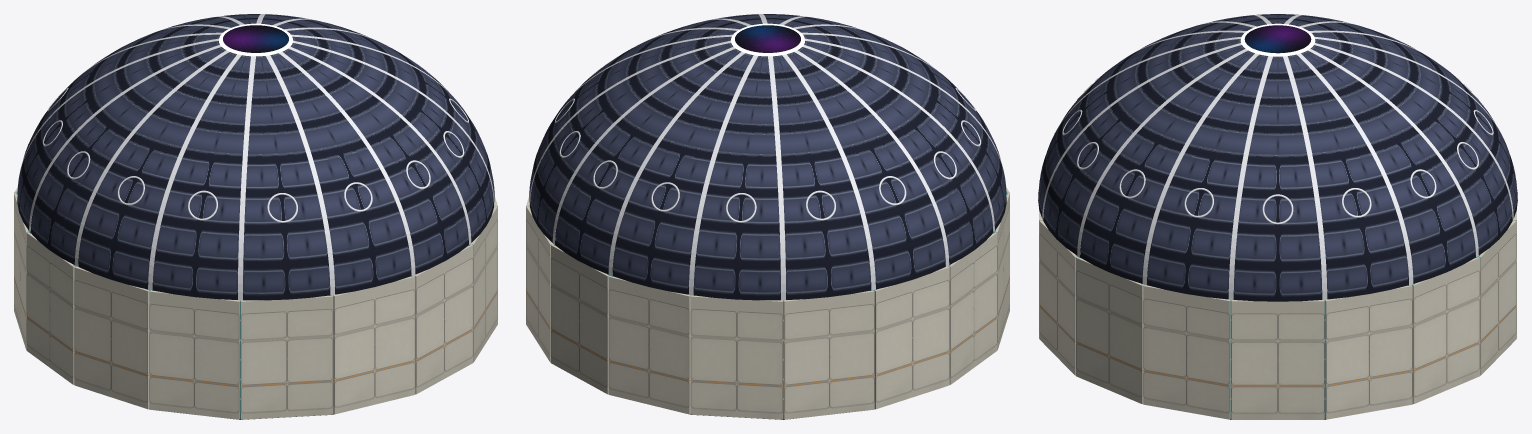
File: room.glb
The picture shows the model from 3 angles, left to right: view 1: azimuth 30°, elevation 25°; view 2: azimuth 150°, elevation 25°; view 3: azimuth 270°, elevation 25°; orthographic projection.
Visible parts, largest first — view 1: Dome, Wall_11, Wall_10, Wall_12, Wall_09, Wall_13, Wall_08, Wall_14, Wall_07, Oculus_Space, Dome_Rib_10, Dome_Rib_11 (+8 smaller); view 2: Dome, Wall_05, Wall_06, Wall_04, Wall_07, Wall_03, Wall_08, Wall_02, Wall_09, Oculus_Space, Dome_Rib_05, Dome_Rib_04 (+8 smaller); view 3: Dome, Wall_00, Wall_15, Wall_01, Wall_02, Wall_14, Wall_03, Wall_13, Oculus_Space, Dome_Rib_00, Dome_Rib_15, Dome_Rib_01 (+8 smaller).
Part boxes in pixels (bbox=[...]): Dome: bbox=[17, 14, 494, 300]; Wall_11: bbox=[240, 295, 333, 419]; Wall_10: bbox=[149, 290, 239, 419]; Wall_12: bbox=[333, 275, 415, 414]; Wall_09: bbox=[74, 266, 149, 409]; Wall_13: bbox=[414, 244, 472, 394]; Wall_08: bbox=[26, 232, 74, 384]; Wall_14: bbox=[470, 206, 497, 362]; Wall_07: bbox=[14, 193, 28, 349]; Oculus_Space: bbox=[223, 25, 288, 52]; Dome_Rib_10: bbox=[238, 56, 255, 300]; Dome_Rib_11: bbox=[266, 55, 335, 295]; Dome: bbox=[529, 14, 1006, 300]; Wall_05: bbox=[690, 295, 783, 419]; Wall_06: bbox=[784, 290, 874, 419]; Wall_04: bbox=[608, 276, 690, 414]; Wall_07: bbox=[874, 266, 949, 409]; Wall_03: bbox=[551, 244, 609, 394]; Wall_08: bbox=[948, 232, 997, 384]; Wall_02: bbox=[526, 206, 553, 362]; Wall_09: bbox=[995, 193, 1009, 349]; Oculus_Space: bbox=[735, 25, 800, 52]; Dome_Rib_05: bbox=[768, 56, 785, 300]; Dome_Rib_04: bbox=[688, 55, 757, 295]; Dome: bbox=[1038, 14, 1517, 301]; Wall_00: bbox=[1231, 299, 1324, 419]; Wall_15: bbox=[1143, 285, 1230, 419]; Wall_01: bbox=[1325, 285, 1412, 419]; Wall_02: bbox=[1411, 257, 1479, 403]; Wall_14: bbox=[1076, 257, 1144, 403]; Wall_03: bbox=[1478, 220, 1516, 375]; Wall_13: bbox=[1039, 220, 1077, 375]; Oculus_Space: bbox=[1244, 25, 1311, 53]; Dome_Rib_00: bbox=[1283, 56, 1327, 299]; Dome_Rib_15: bbox=[1228, 56, 1272, 299]; Dome_Rib_01: bbox=[1297, 53, 1413, 284].
Size of the model in its own units: 13.2 by 8.55 by 13.2.
57 materials, 5 textured.
